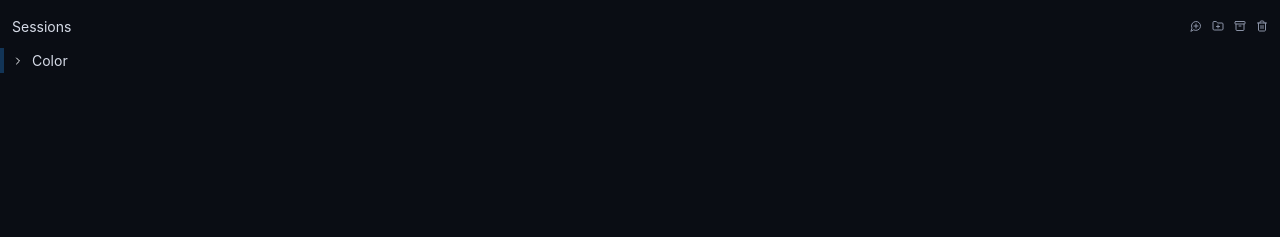
it: <FolderTree> with an async IPC-shaped client › shows rejected color mutations without changing the stored or displayed color
The width and height of the screenshot is (1280, 237).
Right-click the list item "Color" at {"x": 640, "y": 60}, box [0,48,1279,73]
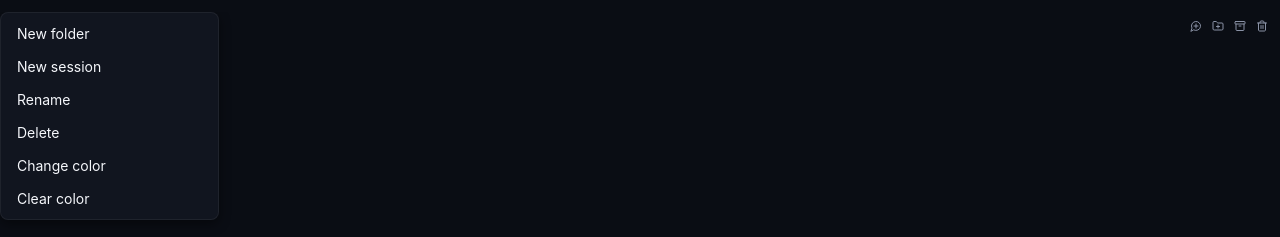
Click the button with test id "ctx-change-color" at {"x": 110, "y": 166}, box [5,149,214,182]
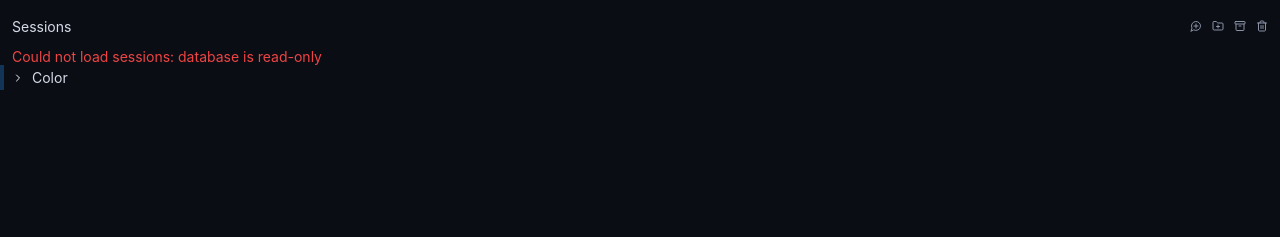
Expected: the message with test id "folder-tree-error" shows "database is read-only", [178,48,322,65]
